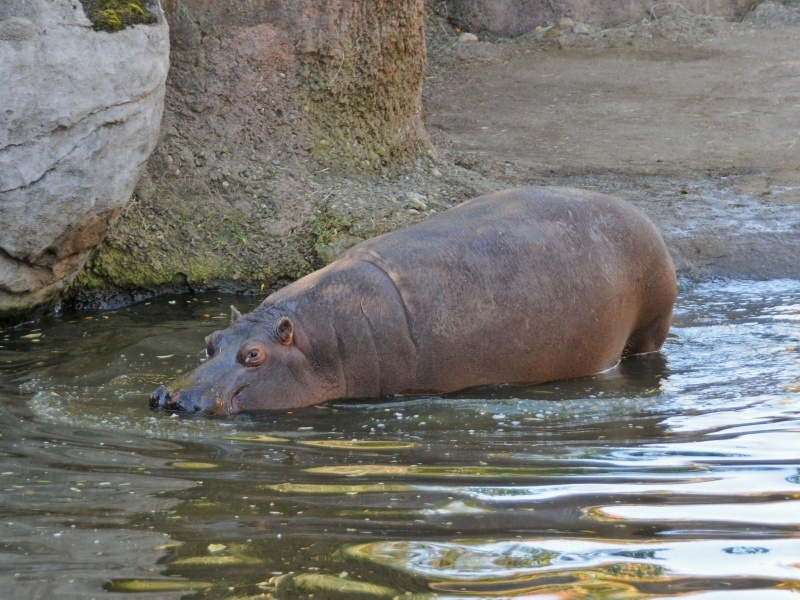hipopotamo: (131, 158, 711, 440)
